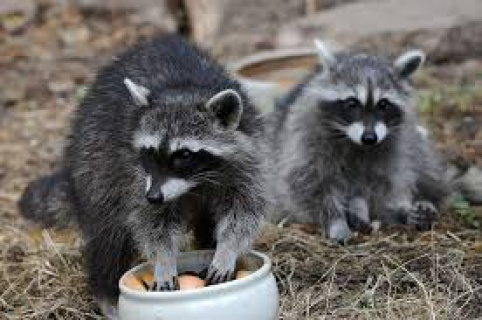Raccoon: (13, 31, 274, 311), (255, 22, 459, 255)
